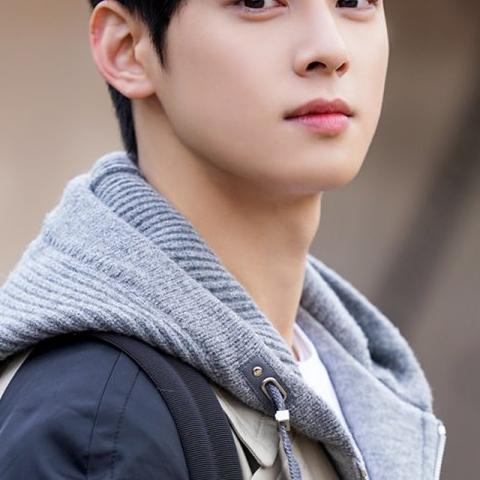opened: (192, 0, 406, 36)
